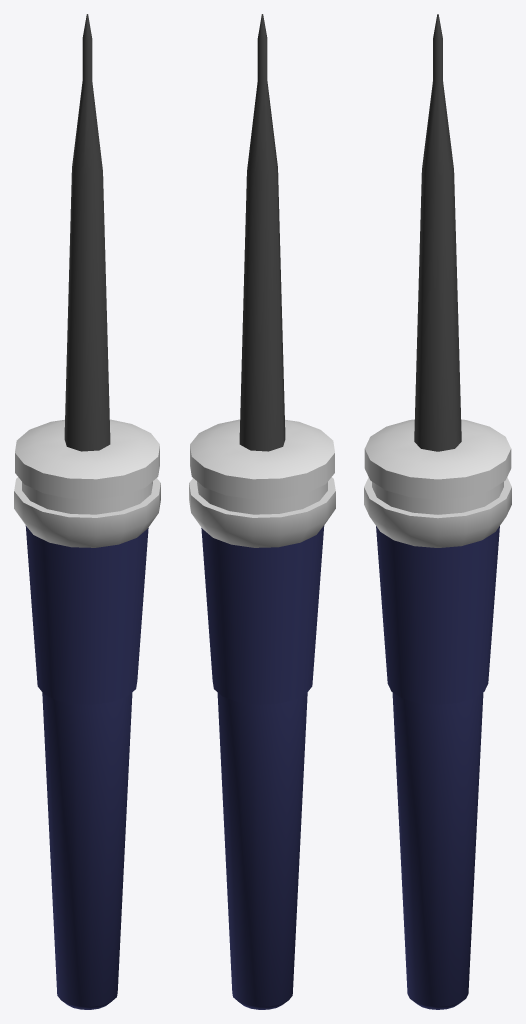
Rendered from Soldador.fbx.
3 views of the same model, side by side, from view 1: azimuth 30°, elevation 25°; view 2: azimuth 150°, elevation 25°; view 3: azimuth 270°, elevation 25° (orthographic).
Visible parts, largest first — view 1: Soldador.002, Soldador.001, Soldador; view 2: Soldador.002, Soldador.001, Soldador; view 3: Soldador.002, Soldador.001, Soldador.
Boxes of the visible parts, bbox=[...] form: Soldador.002: bbox=[25, 525, 148, 1009]; Soldador.001: bbox=[14, 419, 160, 547]; Soldador: bbox=[64, 14, 110, 451]; Soldador.002: bbox=[201, 525, 324, 1009]; Soldador.001: bbox=[189, 419, 335, 547]; Soldador: bbox=[239, 14, 285, 451]; Soldador.002: bbox=[376, 526, 499, 1009]; Soldador.001: bbox=[364, 419, 511, 547]; Soldador: bbox=[414, 14, 461, 451].
Bounding box in the file's own units: 3.31 × 24.35 × 3.31.
